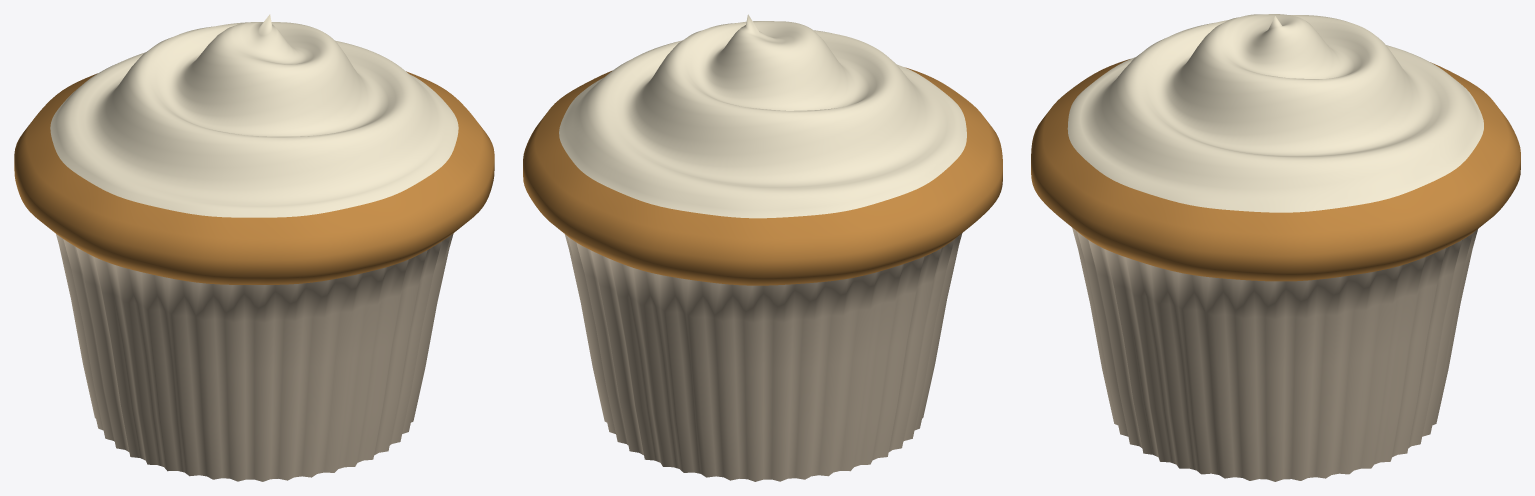
3 renders of one model, left to right at view 1: azimuth 30°, elevation 25°; view 2: azimuth 150°, elevation 25°; view 3: azimuth 270°, elevation 25°, orthographic. The views are drawn at different scales.
Visible parts, largest first — view 1: NEW336_WholeCupcake_LOD1; view 2: NEW336_WholeCupcake_LOD1; view 3: NEW336_WholeCupcake_LOD1.
Part boxes in pixels (box(x1,y1,x2,y2)): NEW336_WholeCupcake_LOD1: box(14, 14, 494, 481); NEW336_WholeCupcake_LOD1: box(523, 14, 1002, 481); NEW336_WholeCupcake_LOD1: box(1031, 14, 1520, 481).
Size of the model in its own units: 0.08 by 0.073 by 0.08.
